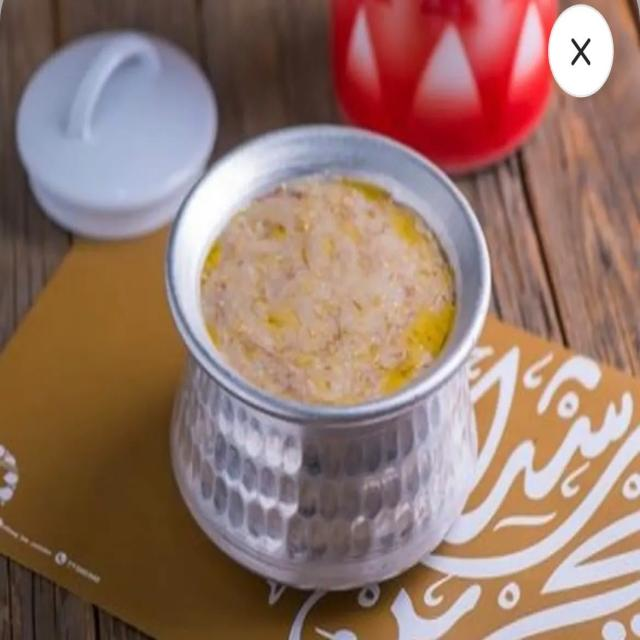Harees: (195, 159, 463, 416)
